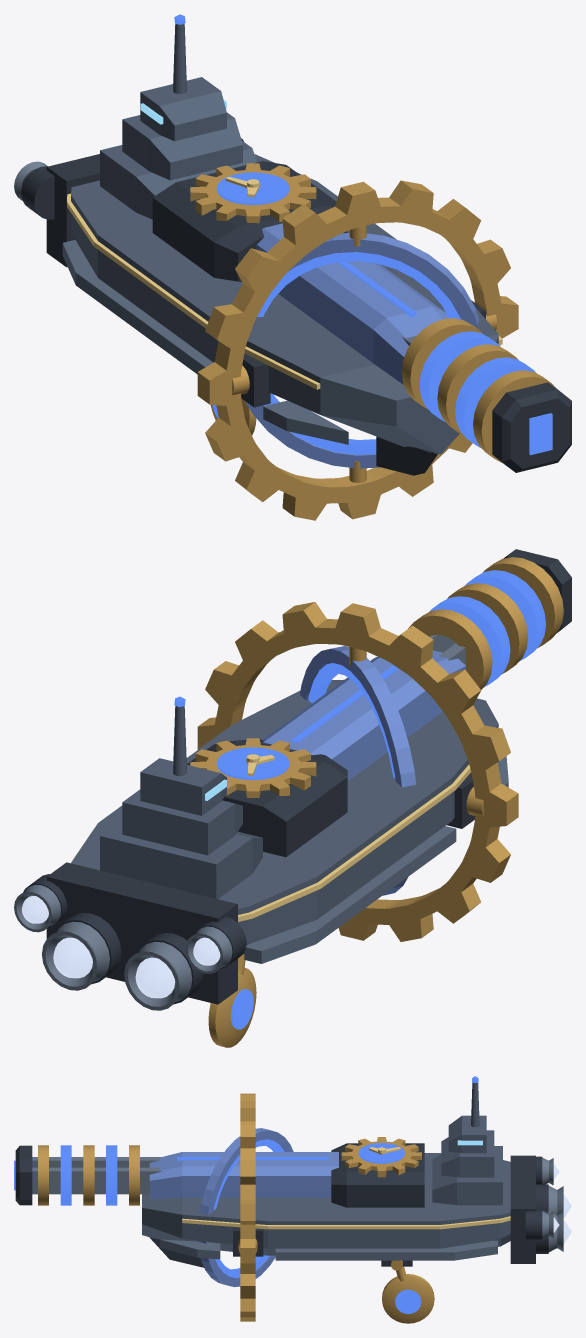
The model's file is pendulum.glb.
3 views of the same model, one above another, from view 1: azimuth 30°, elevation 25°; view 2: azimuth 150°, elevation 25°; view 3: azimuth 270°, elevation 25° (orthographic). The views are drawn at different scales.
Visible parts, largest first — view 1: pendulum; view 2: pendulum; view 3: pendulum.
Part boxes in pixels (x1,y1,x2,y2): pendulum: [14, 14, 571, 520]; pendulum: [14, 549, 571, 1047]; pendulum: [14, 1076, 571, 1323].
Size of the model in its own units: 4.51 by 5.38 by 11.05.
